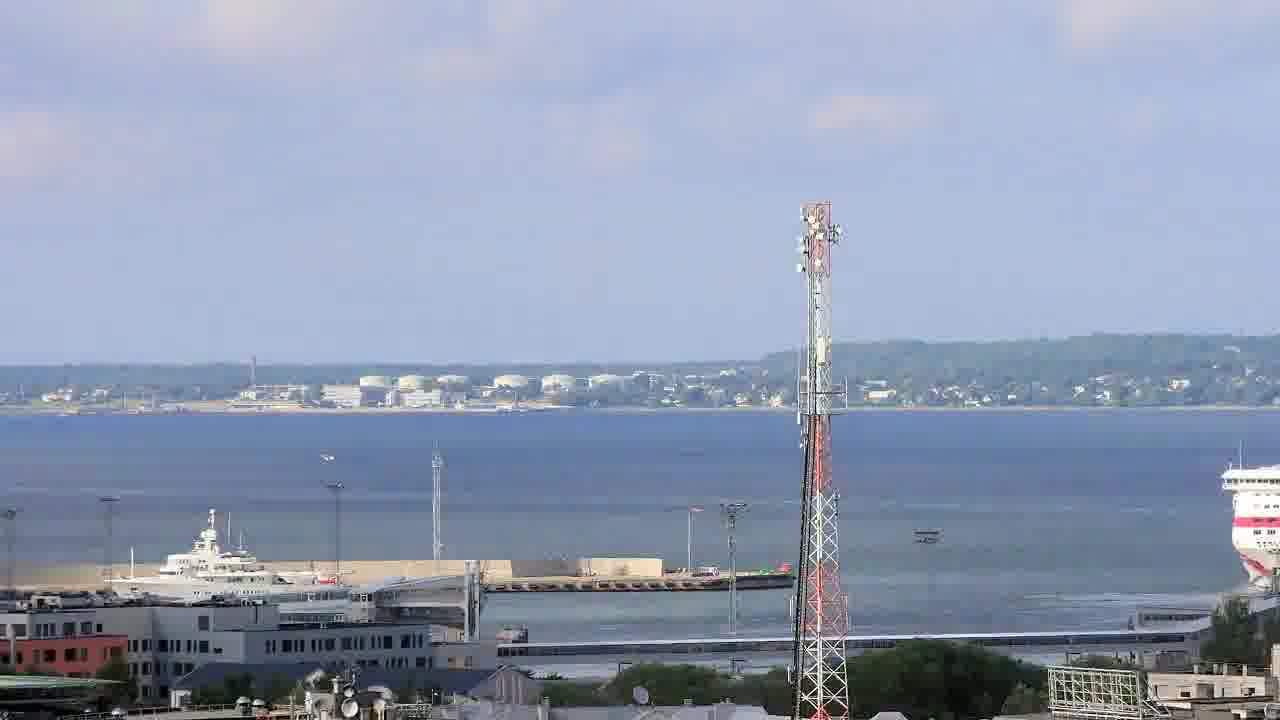type-3: (89, 518, 402, 620), (1195, 382, 1279, 638)
